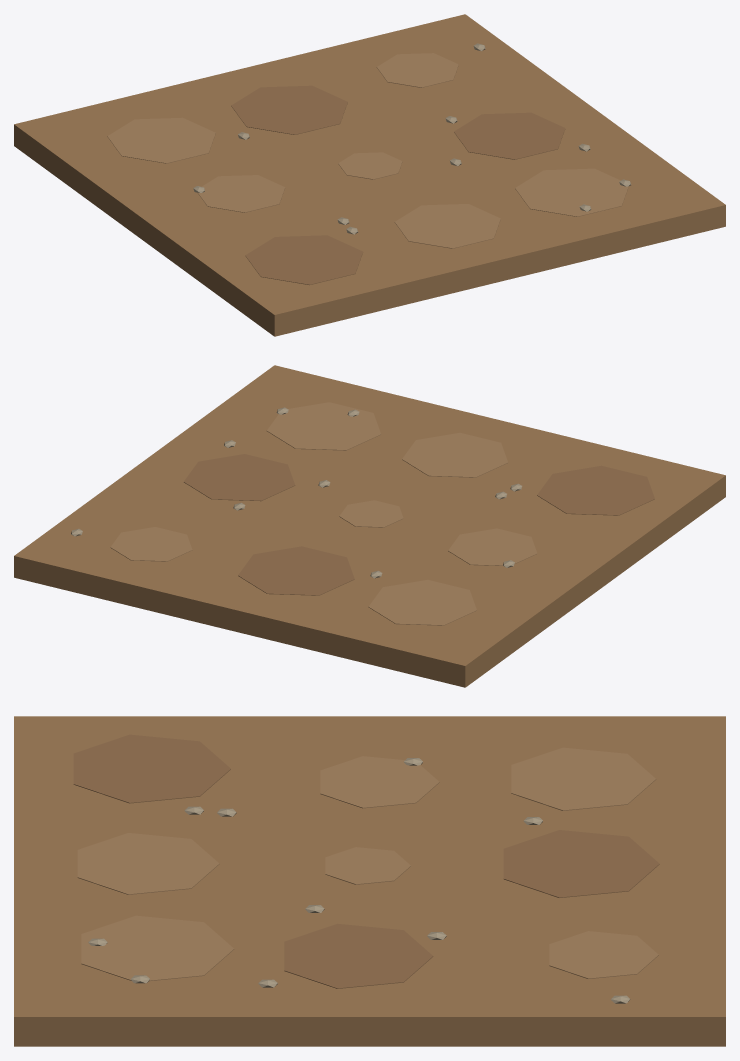
Rendered from road_dirt.glb.
3 renders of one model, top to bottom at view 1: azimuth 30°, elevation 25°; view 2: azimuth 150°, elevation 25°; view 3: azimuth 270°, elevation 25°, orthographic. The views are drawn at different scales.
Visible parts, largest first — view 1: road_dirt; view 2: road_dirt; view 3: road_dirt.
Boxes of the visible parts, left/top/right/bottom form: road_dirt: left=14, top=14, right=725, bottom=336; road_dirt: left=14, top=365, right=725, bottom=687; road_dirt: left=14, top=716, right=725, bottom=1046.
Bounding box in the file's own units: 1 × 0.053 × 1.
